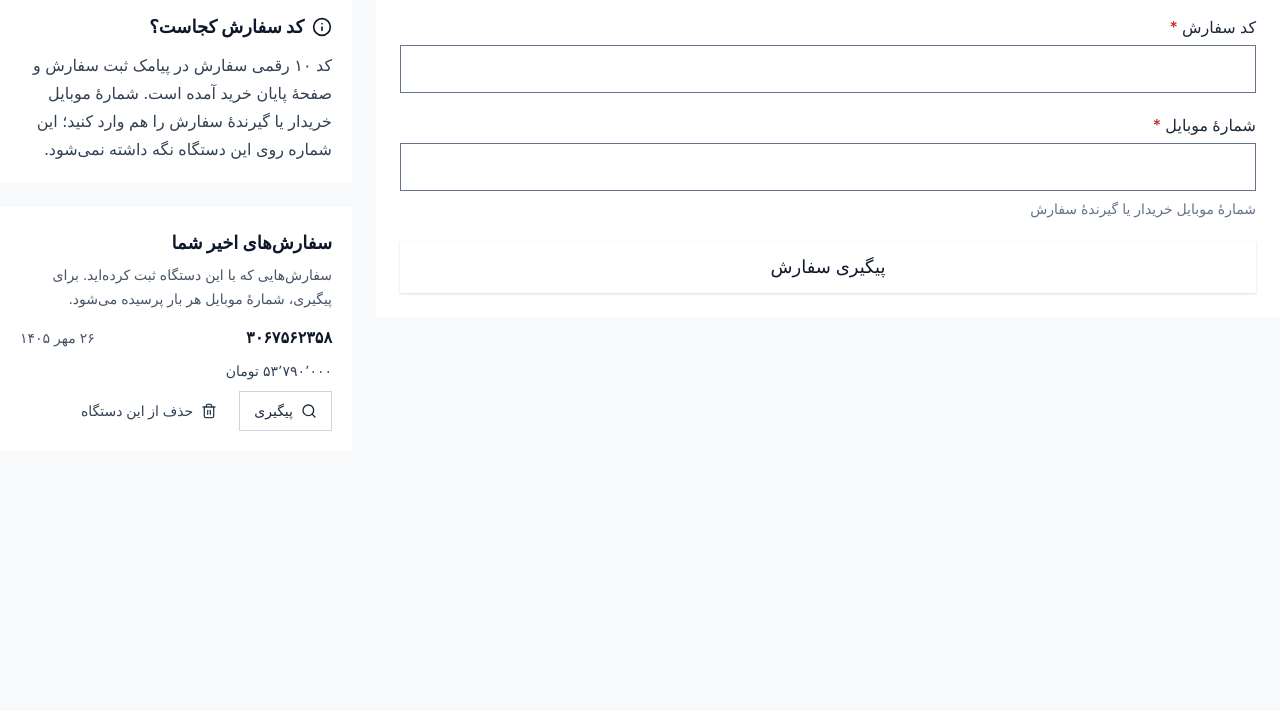
awaiting payment › this device holds its link: «پرداخت سفارش», a full page load of the link, its deadline
This screenshot has width=1280, height=711.
Type "3067562358" into the field labelled "کد سفارش *".
click(828, 69); type("3067562358")  # box [401,46,1255,92]
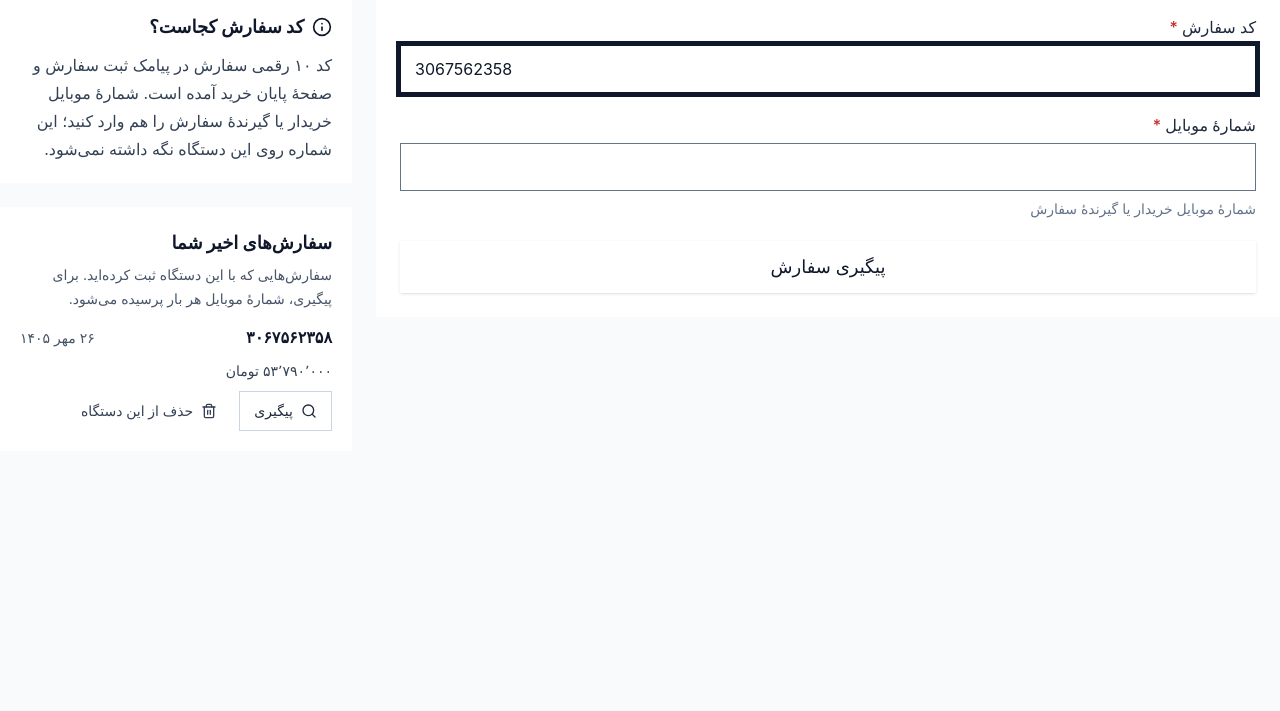
Type "09011234513" into the field labelled "شمارهٔ موبایل *".
click(828, 167); type("09011234513")  # box [401,144,1255,190]
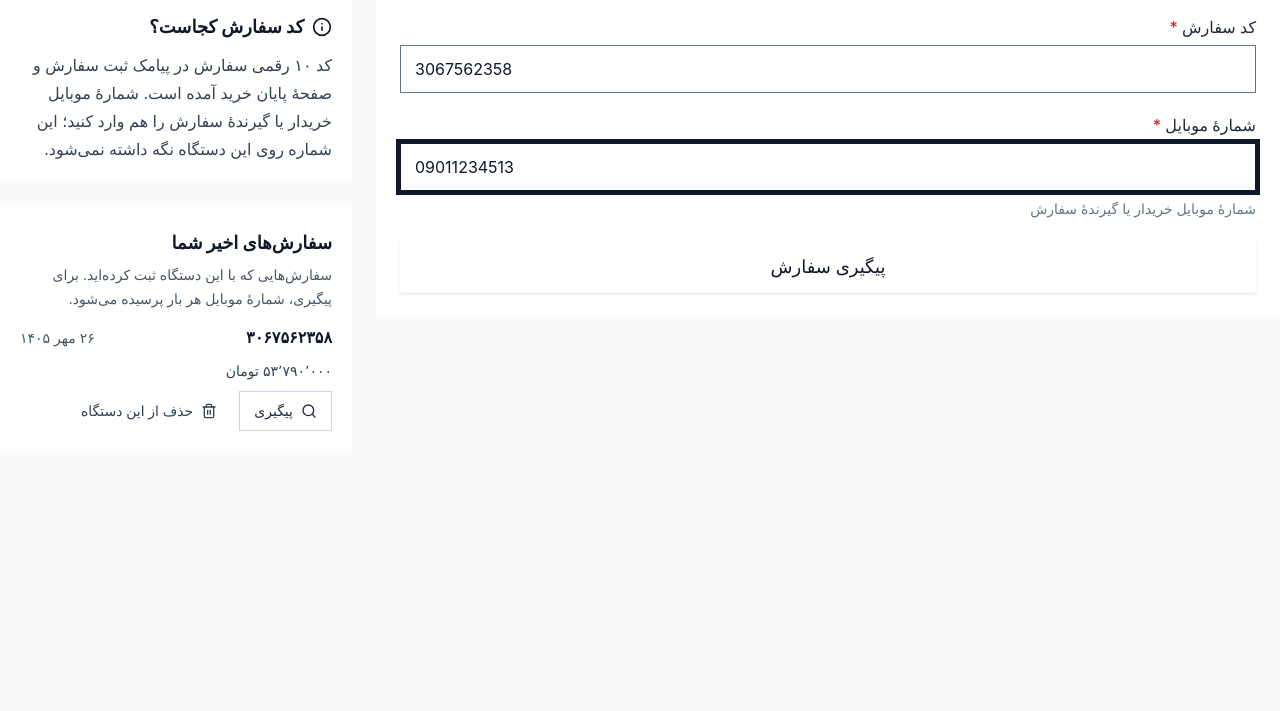
Click the button "پیگیری سفارش".
click(828, 267)  # box [400,241,1256,293]
(page scrolled)
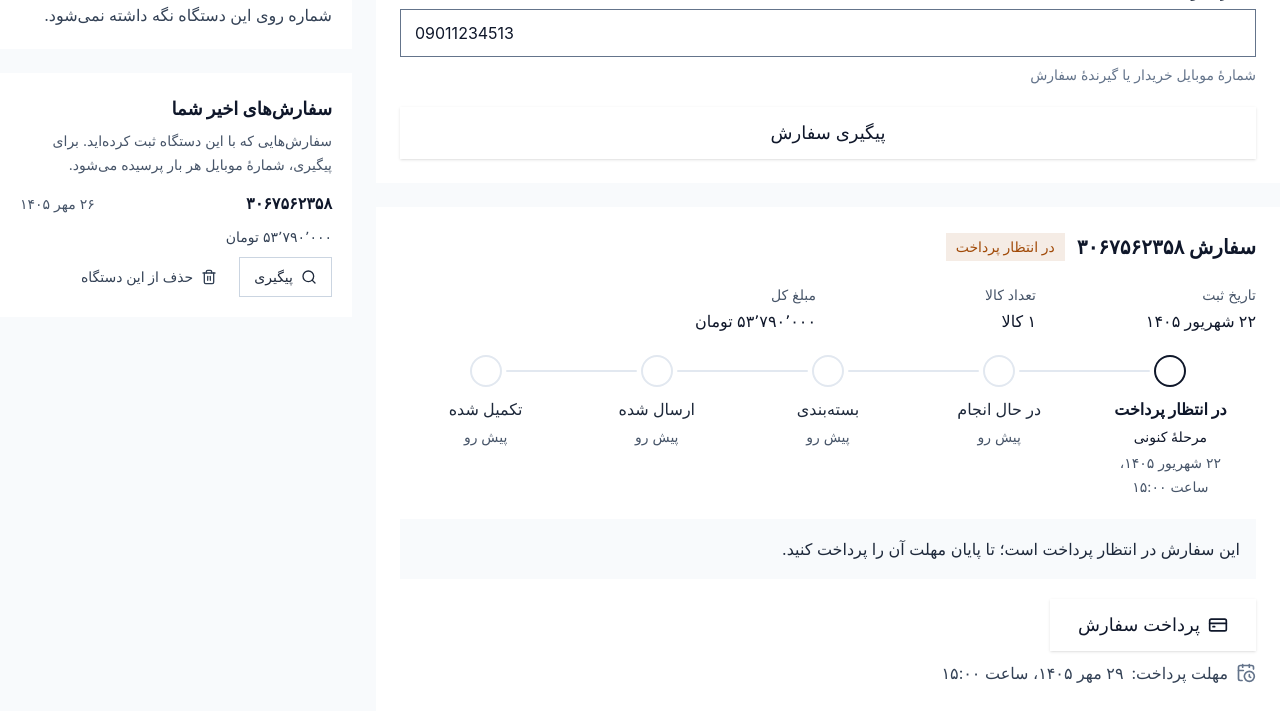
Expected: the text "مهلت پرداخت" is shown, [1132,663,1228,683]
